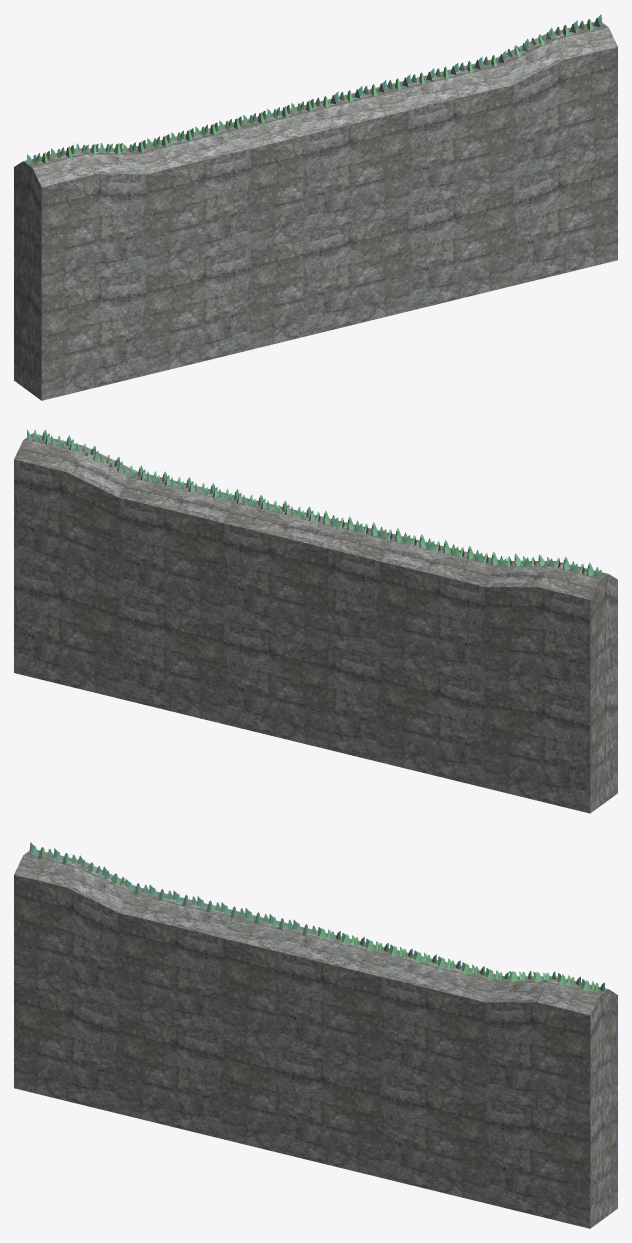
The model's file is paredeesgoto.gltf.
3 renders of one model, top to bottom at view 1: azimuth 30°, elevation 25°; view 2: azimuth 150°, elevation 25°; view 3: azimuth 330°, elevation 25°, orthographic.
Visible parts, largest first — view 1: cuboid (×2); view 2: cuboid (×2); view 3: cuboid (×2).
Part boxes in pixels (bbox=[...]): cuboid (×2): bbox=[14, 14, 617, 400]; cuboid (×2): bbox=[14, 429, 617, 813]; cuboid (×2): bbox=[14, 842, 617, 1228].
Size of the model in its own units: 3 by 1.17 by 0.25.
Materials: 2 (2 with a texture image).
